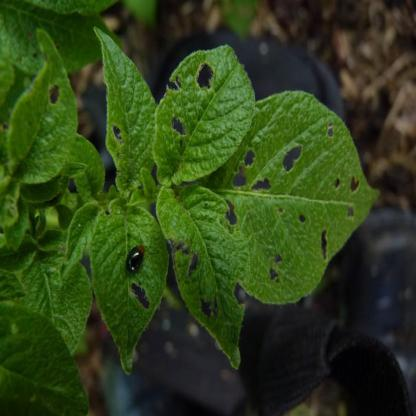beetle: (121, 242, 151, 277)
